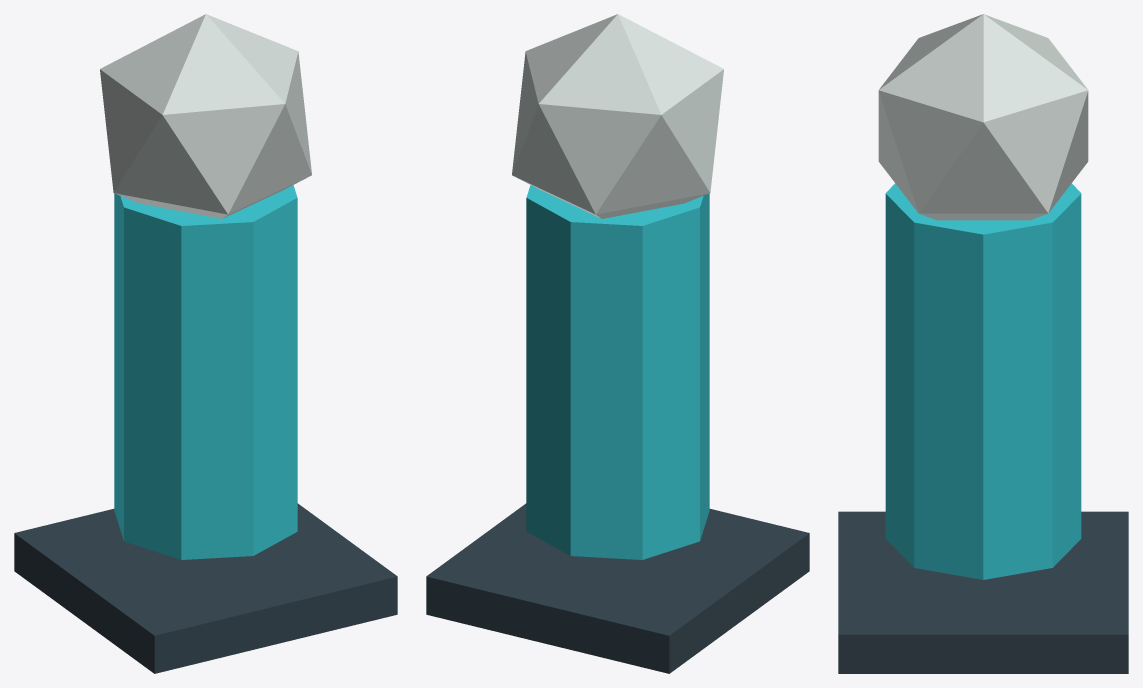
File: agent-low.glb
The picture shows the model from 3 angles, left to right: view 1: azimuth 30°, elevation 25°; view 2: azimuth 150°, elevation 25°; view 3: azimuth 270°, elevation 25°; orthographic projection. The views are drawn at different scales.
Parts seen in each view (by area): view 1: Agent_Body, Agent_Base, Agent_Head; view 2: Agent_Body, Agent_Base, Agent_Head; view 3: Agent_Body, Agent_Base, Agent_Head.
Part boxes in pixels (x1=…): Agent_Body: x1=114, y1=185, x2=297, y2=559; Agent_Base: x1=14, y1=503, x2=397, y2=673; Agent_Head: x1=100, y1=14, x2=311, y2=218; Agent_Body: x1=526, y1=185, x2=709, y2=559; Agent_Base: x1=426, y1=503, x2=809, y2=673; Agent_Head: x1=512, y1=14, x2=723, y2=218; Agent_Body: x1=885, y1=183, x2=1081, y2=579; Agent_Base: x1=838, y1=511, x2=1128, y2=673; Agent_Head: x1=878, y1=14, x2=1088, y2=220.
Size of the model in its own units: 0.8 by 1.82 by 0.8.
